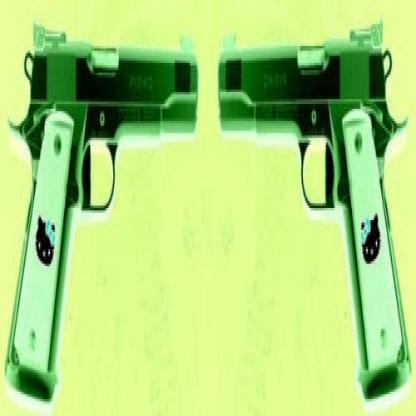gun: (1, 4, 200, 416), (211, 7, 413, 409)
